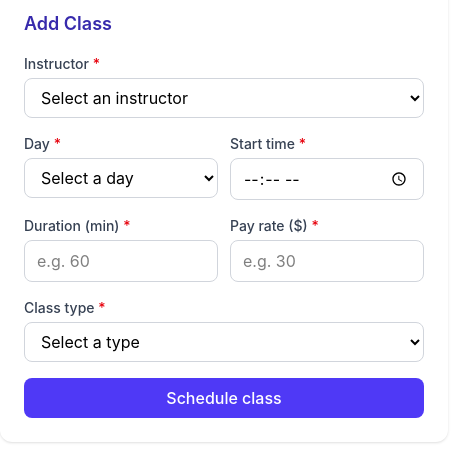
Test: ClassForm › shows a confirmation message after successfully scheduling a class
The width and height of the screenshot is (465, 460).
Select "Asha Rao (I00001)" in the dropdown labelled "Instructor *": (224, 98) [24, 78, 424, 118]
Select "Monday" in the dropdown labelled "Day *": (121, 178) [24, 158, 218, 198]
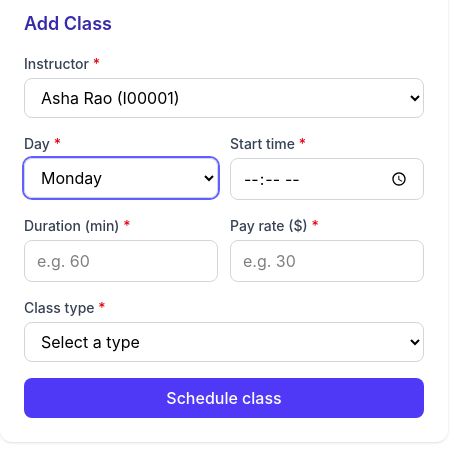
In the time field labelled "Start time *": (327, 179) [230, 158, 424, 200], type "10:00"
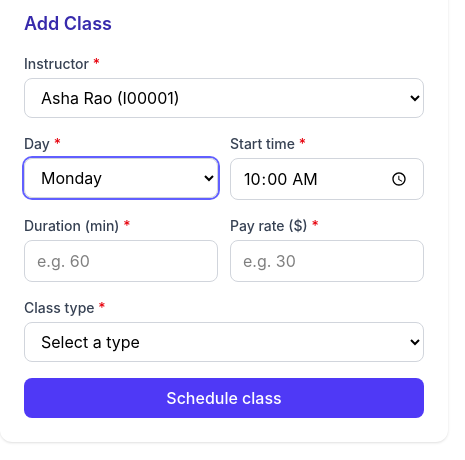
In the number field labelled "Duration (min) *": (121, 261) [24, 240, 218, 282], type "60"
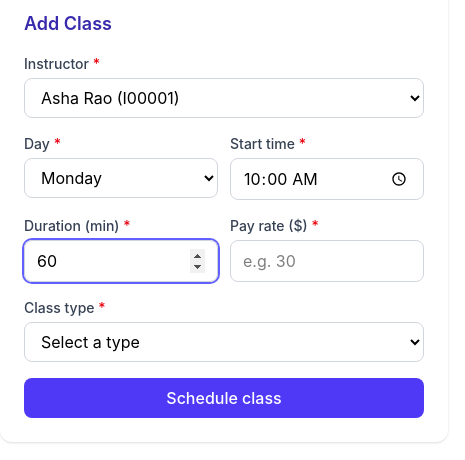
In the number field labelled "Pay rate ($) *": (327, 261) [230, 240, 424, 282], type "30"
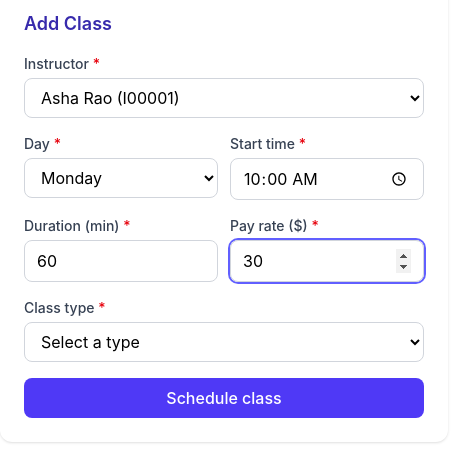
Select "General" in the dropdown labelled "Class type *": (224, 342) [24, 322, 424, 362]
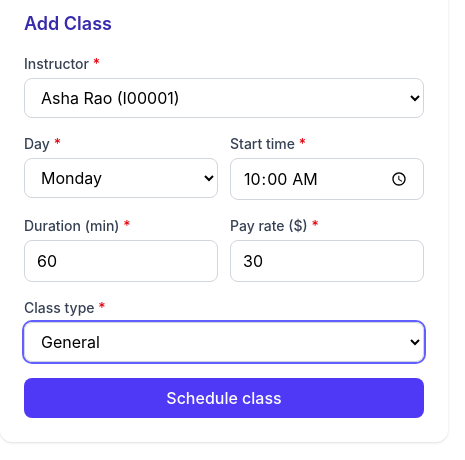
Click the button "Schedule class": (224, 398) [24, 378, 424, 418]
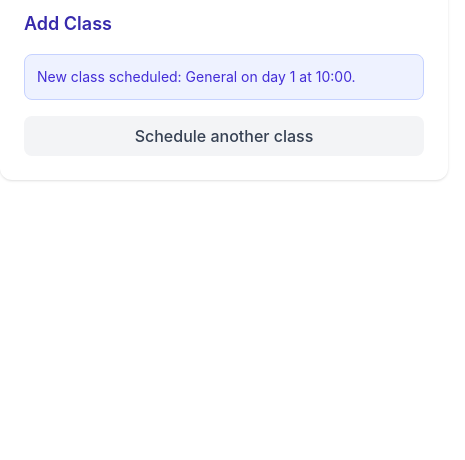
Expected: the text "New class scheduled: General on day 1 at 10:00." is shown, [24, 54, 424, 100]
